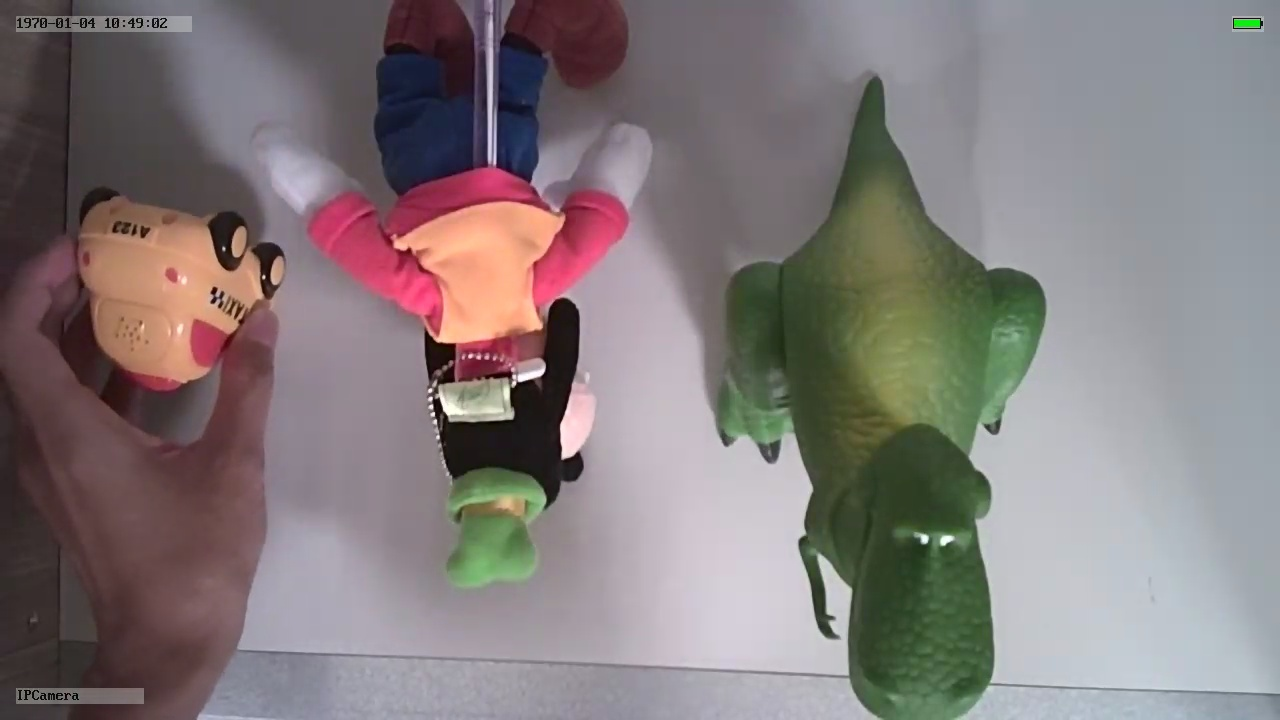goofy: (255, 123, 652, 582)
rex: (718, 166, 1045, 720)
